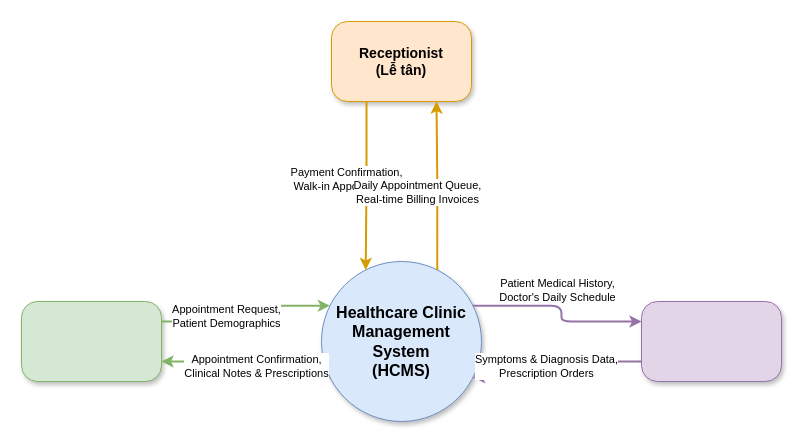
The diagram is 805 pixels wide and 446 high, and some of its shapes have lost their labels. Here are the shapes that lost their labels. From the top down, the centre of each, then its label:
At point 92,342: "Parents (Phụ huynh)".
At point 712,342: "Doctor (Bác sĩ)".
